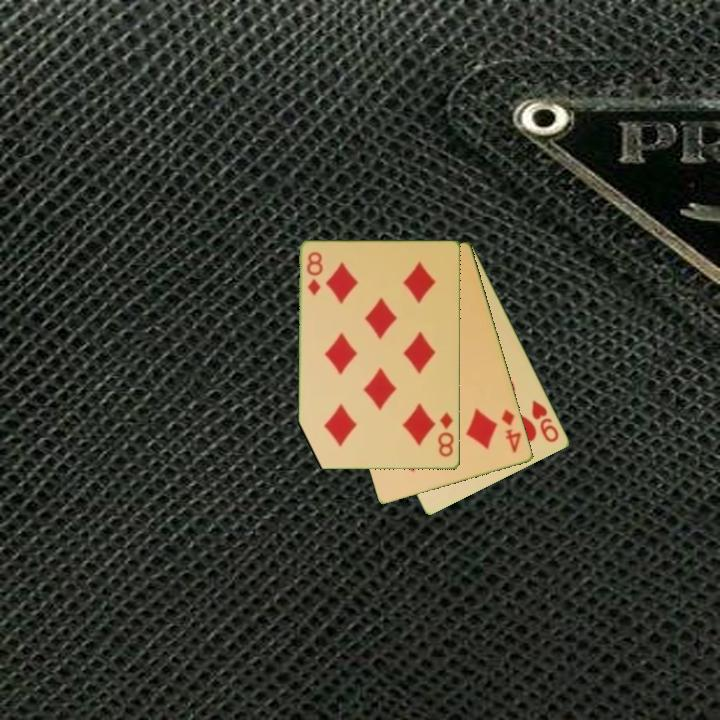4d: (498, 406, 525, 456)
8d: (435, 409, 457, 460), (304, 248, 325, 298)
9h: (528, 396, 562, 445)
